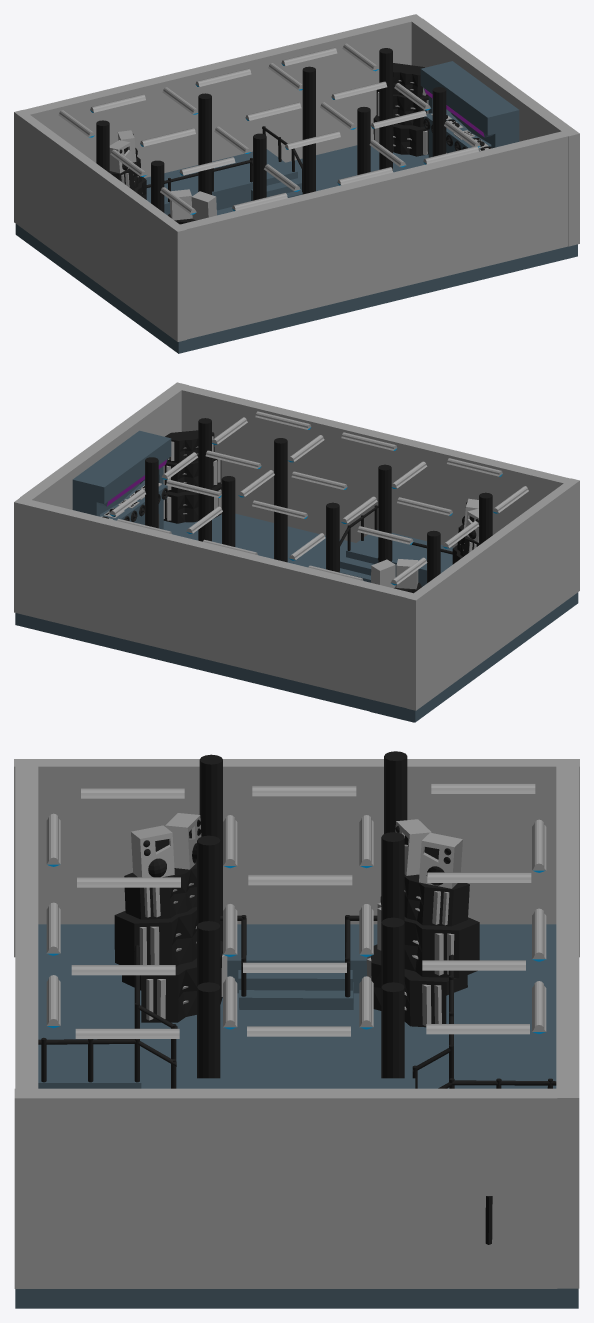
The model's file is nightclub-basement-by-adam-marc-williams-5HpjvpeTta2.glb.
The picture shows the model from 3 angles, top to bottom: view 1: azimuth 30°, elevation 25°; view 2: azimuth 150°, elevation 25°; view 3: azimuth 270°, elevation 25°; orthographic projection. The views are drawn at different scales.
Parts seen in each view (by area): view 1: group1271376232, group553596706, group157640713, group1459828926, group2087102820, group1660303914, group1909578476, group915480017, group1245738560, group539670831, group132599251, group1170931422 (+6 smaller); view 2: group1271376232, group553596706, group157640713, group1459828926, group836438931, group1376440506, group733263583, group560106482, group753228325, group915480017, group1245738560, group1170931422 (+4 smaller); view 3: group1271376232, group553596706, group1376440506, group1909578476, group49341797, group2087102820, group1459828926, group915480017, group1245738560, group2126743855, group157640713, group310137964 (+18 smaller).
Part boxes in pixels (<box>): group1271376232: <box>14,14,579,341</box>; group553596706: <box>15,145,577,353</box>; group157640713: <box>420,61,519,157</box>; group1459828926: <box>96,48,392,194</box>; group2087102820: <box>145,149,302,215</box>; group1660303914: <box>373,63,428,156</box>; group1909578476: <box>109,130,146,199</box>; group915480017: <box>58,43,378,137</box>; group1245738560: <box>160,120,480,214</box>; group539670831: <box>140,81,387,146</box>; group132599251: <box>90,47,337,112</box>; group1170931422: <box>232,146,478,211</box>; group1271376232: <box>14,382,579,710</box>; group553596706: <box>15,513,578,722</box>; group157640713: <box>72,430,171,529</box>; group1459828926: <box>145,457,440,583</box>; group836438931: <box>163,430,221,523</box>; group1376440506: <box>339,529,453,586</box>; group733263583: <box>274,438,287,562</box>; group560106482: <box>198,418,211,541</box>; group753228325: <box>378,464,391,562</box>; group915480017: <box>109,489,427,585</box>; group1245738560: <box>212,417,528,513</box>; group1170931422: <box>255,411,502,476</box>; group1271376232: <box>14,759,579,1288</box>; group553596706: <box>15,993,578,1308</box>; group1376440506: <box>38,924,177,1088</box>; group1909578476: <box>366,819,479,1027</box>; group49341797: <box>227,924,556,1009</box>; group2087102820: <box>446,959,556,1088</box>; group1459828926: <box>381,751,407,1078</box>; group915480017: <box>422,783,535,1034</box>; group1245738560: <box>71,788,184,1038</box>; group2126743855: <box>114,907,196,966</box>; group157640713: <box>184,1078,415,1088</box>; group310137964: <box>122,940,222,1022</box>.
Bounding box in the file's own units: 3.1 × 1.11 × 2.18.
